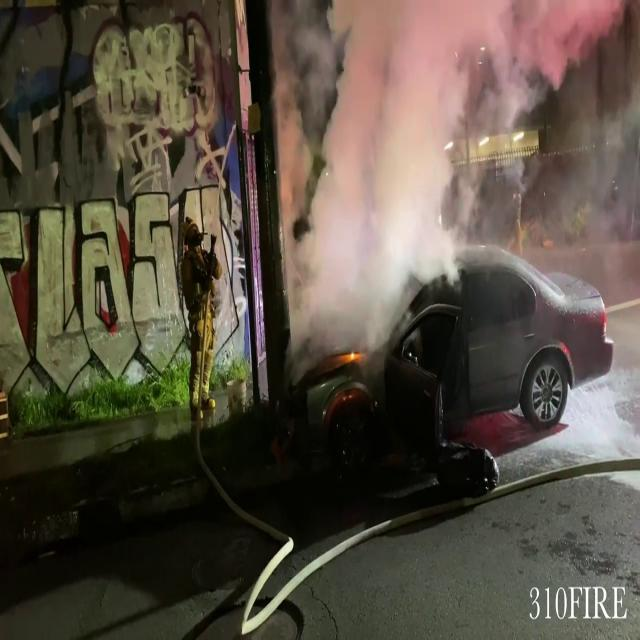Smoke: (285, 0, 526, 349)
